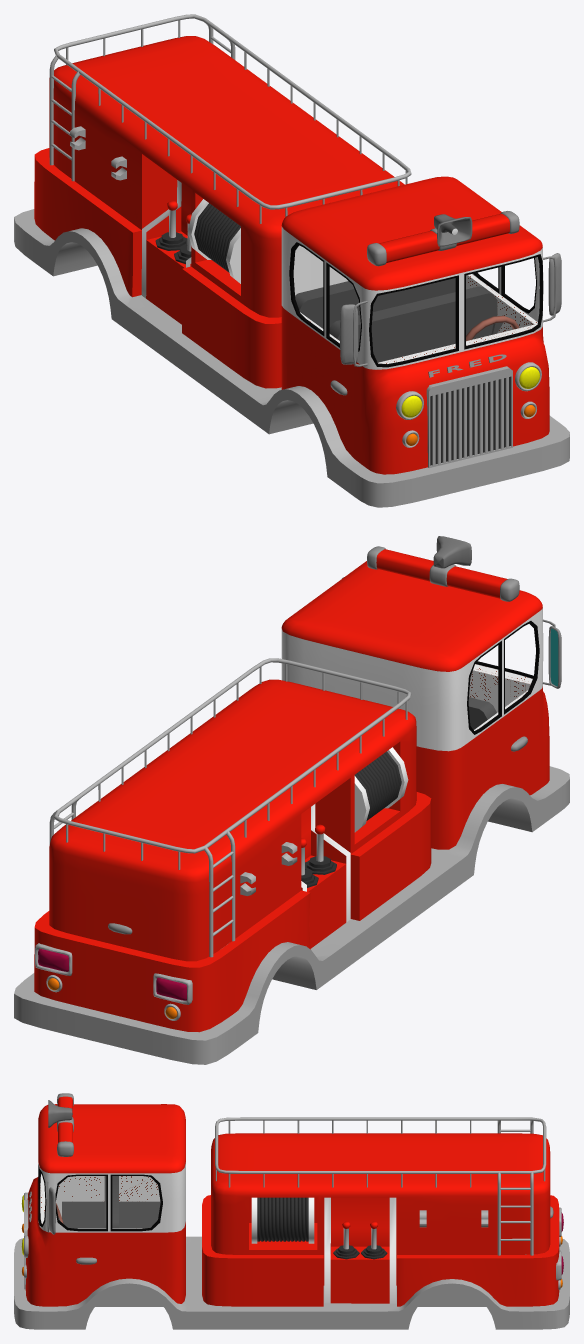
File: modTruckBody.fbx
3 renders of one model, top to bottom at view 1: azimuth 30°, elevation 25°; view 2: azimuth 150°, elevation 25°; view 3: azimuth 270°, elevation 25°, orthographic. The views are drawn at different scales.
Visible parts, largest first — view 1: modTruckBody; view 2: modTruckBody; view 3: modTruckBody.
Part boxes in pixels (x1,y1,x2,y2): modTruckBody: (14,14,569,507); modTruckBody: (14,536,569,1064); modTruckBody: (14,1093,569,1329).
Bounding box in the file's own units: 3.35 × 3.62 × 9.74.
